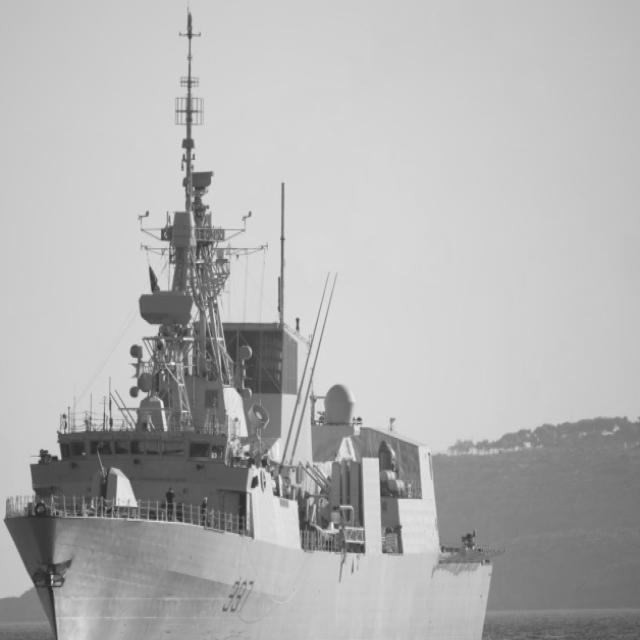Fragata: (2, 1, 510, 640)
